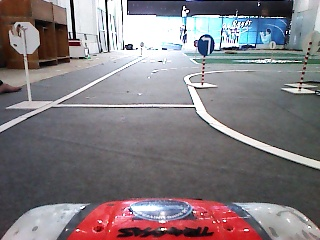turn_left: (198, 34, 215, 55)
